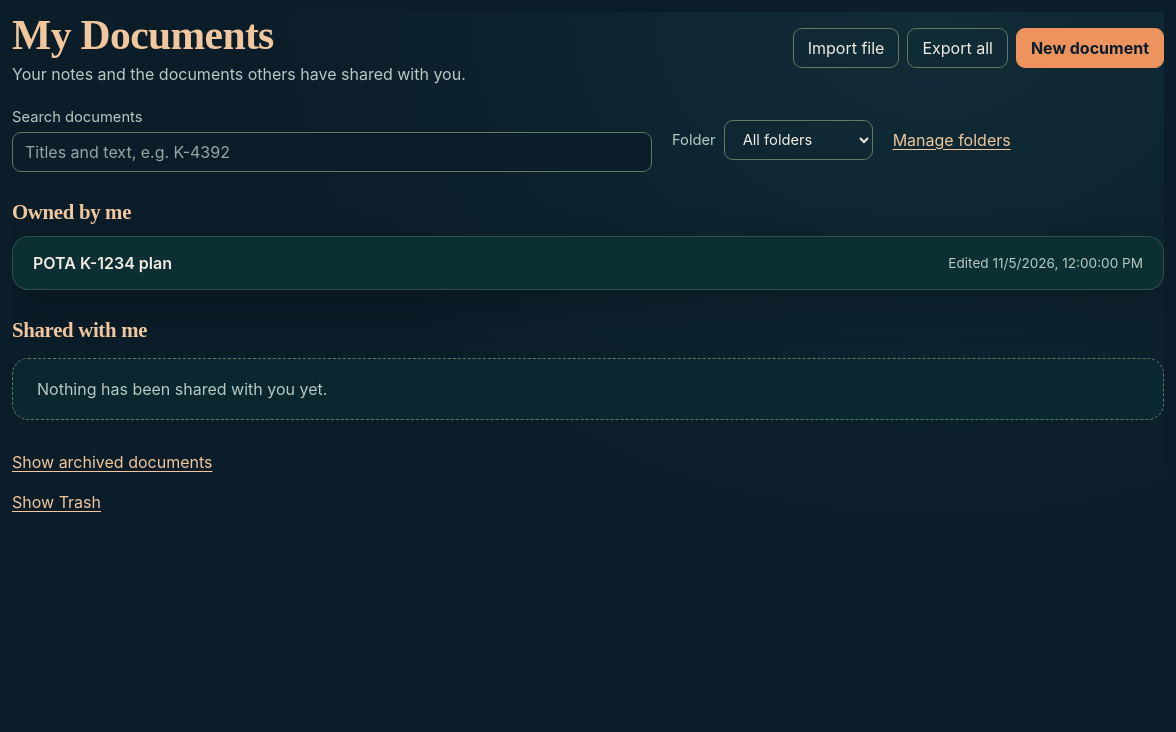
Scenario: Export all › downloads the archive and warns when attachments were left out
The width and height of the screenshot is (1176, 732).
What coordinates should you click on to do the following:
click the button "Export all"
I would click on:
 (958, 48)
Its box is [907,28,1008,68].
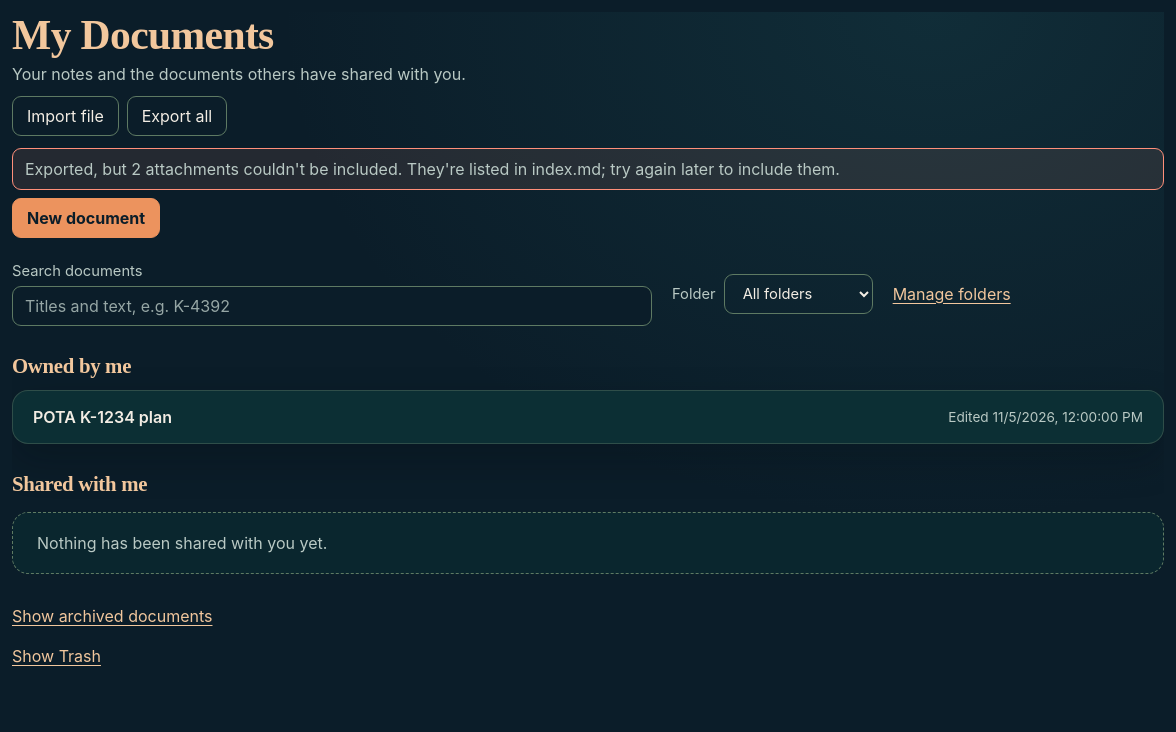
Result: the message shows "2 attachments couldn't be included" at [25,159,840,179]
